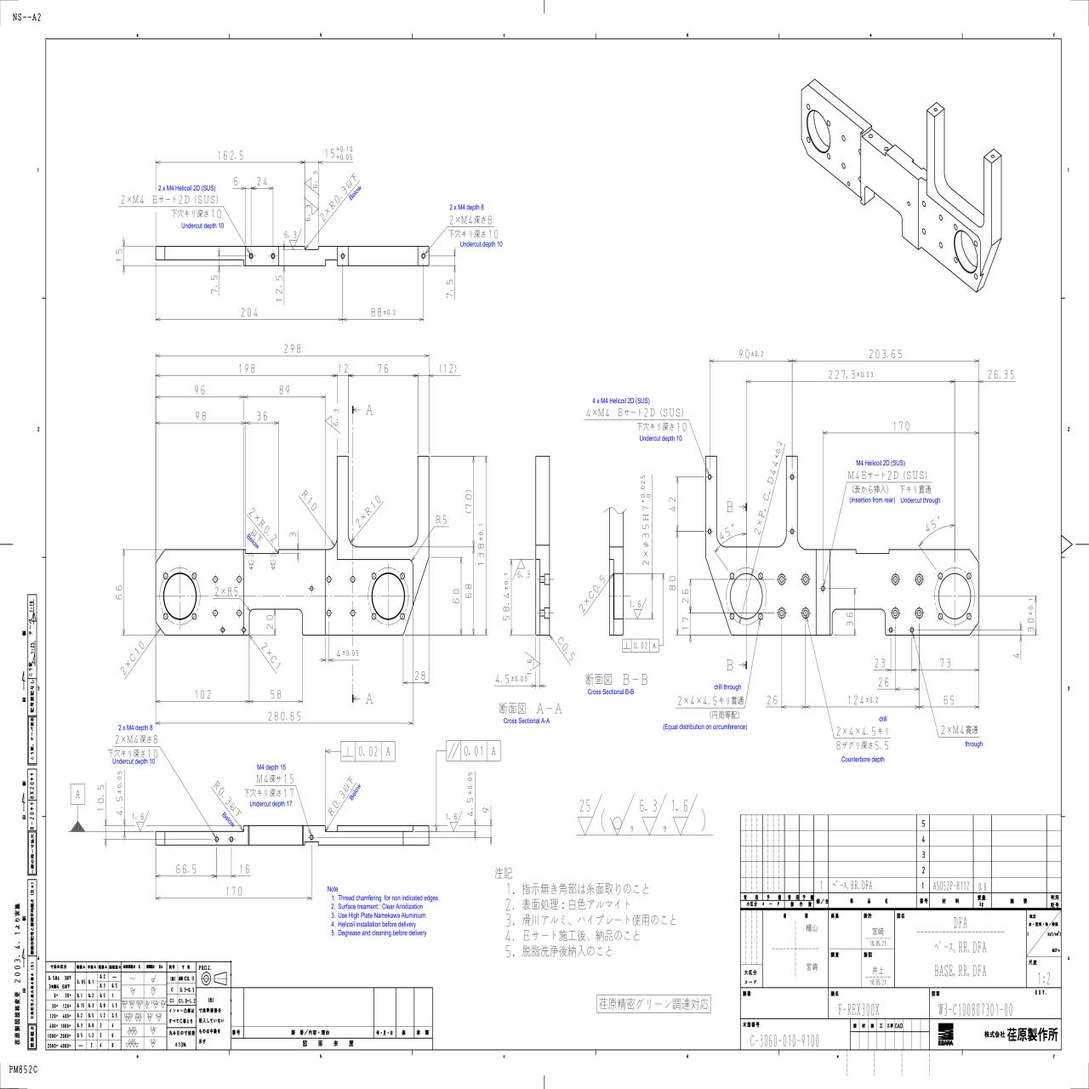basic_dimension: (829, 370, 873, 379), (326, 147, 353, 161), (496, 673, 527, 684), (503, 573, 510, 621), (848, 694, 878, 705), (869, 349, 902, 359), (116, 770, 123, 816), (478, 523, 485, 566), (268, 712, 301, 721), (467, 772, 473, 816), (988, 369, 1014, 379), (218, 151, 244, 160), (337, 648, 358, 659), (371, 308, 396, 317), (1028, 598, 1034, 633), (176, 864, 196, 874), (740, 350, 764, 358), (276, 275, 283, 302), (97, 785, 104, 810), (241, 307, 258, 317), (210, 274, 218, 295), (284, 345, 301, 354), (239, 364, 255, 373), (195, 690, 211, 699), (227, 887, 242, 896), (446, 279, 453, 298), (894, 422, 909, 430), (115, 248, 123, 262), (465, 583, 472, 599), (257, 175, 267, 186), (270, 690, 281, 700), (115, 585, 122, 600), (465, 494, 472, 509), (682, 589, 689, 604), (669, 497, 676, 512), (415, 671, 425, 681), (767, 695, 777, 705), (878, 677, 888, 687), (940, 658, 950, 668), (257, 411, 268, 420), (682, 616, 689, 629), (195, 385, 205, 394), (196, 411, 206, 420), (339, 364, 348, 374), (378, 363, 388, 372), (875, 659, 885, 668), (944, 695, 954, 704), (267, 615, 273, 629), (453, 589, 459, 603), (669, 576, 675, 590), (847, 612, 853, 626), (280, 385, 289, 394), (241, 864, 249, 874), (234, 177, 238, 186), (483, 807, 489, 813), (289, 533, 296, 538), (1013, 653, 1019, 658)
datum_symbol: (70, 784, 86, 832)
dimension_chamfer_symbol: (588, 574, 606, 600), (557, 636, 575, 662), (129, 641, 145, 663), (271, 656, 281, 669)
dimension_degree_symbol: (924, 516, 941, 534), (719, 524, 736, 540)
dimension_diameter_symbol: (641, 475, 651, 549)
dimension_metric_symbol: (847, 470, 855, 481), (132, 194, 139, 205), (256, 774, 264, 783), (953, 724, 959, 736), (598, 407, 604, 419), (461, 215, 468, 225), (126, 735, 133, 744)
dimension_radius_symbol: (328, 185, 348, 210), (213, 780, 232, 806), (328, 790, 346, 816), (258, 519, 277, 543), (302, 489, 318, 511), (365, 494, 381, 516), (436, 515, 446, 525), (227, 587, 238, 596)
gdt_frame_symbol: (446, 740, 501, 761), (340, 741, 395, 761), (622, 639, 660, 652)
gdt_parallelism_symbol: (447, 743, 459, 759)
gdt_perpendicularity_symbol: (342, 746, 354, 757), (623, 642, 631, 649)
surface_finish_symbol: (639, 793, 667, 836), (609, 794, 635, 836), (577, 793, 602, 836), (673, 794, 698, 837), (304, 171, 320, 196), (512, 559, 530, 580), (304, 197, 319, 222), (325, 409, 340, 434), (285, 228, 302, 250), (525, 651, 540, 675), (133, 810, 149, 832), (446, 810, 462, 832), (630, 598, 646, 619)
